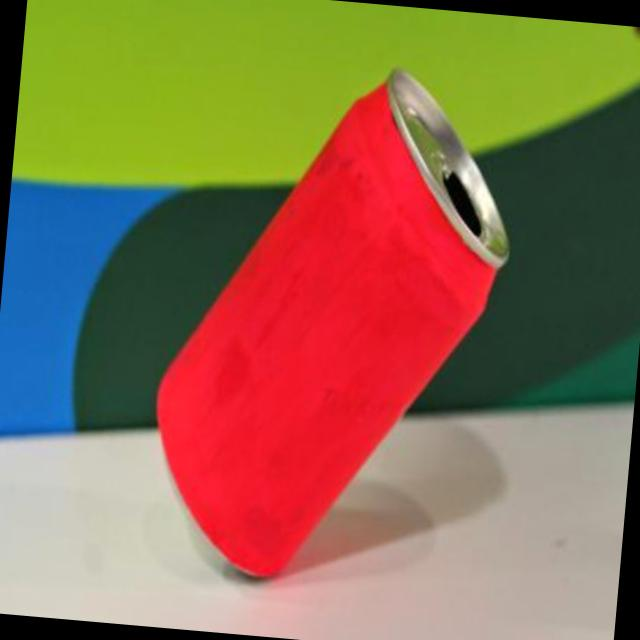metal: (155, 68, 505, 572)
